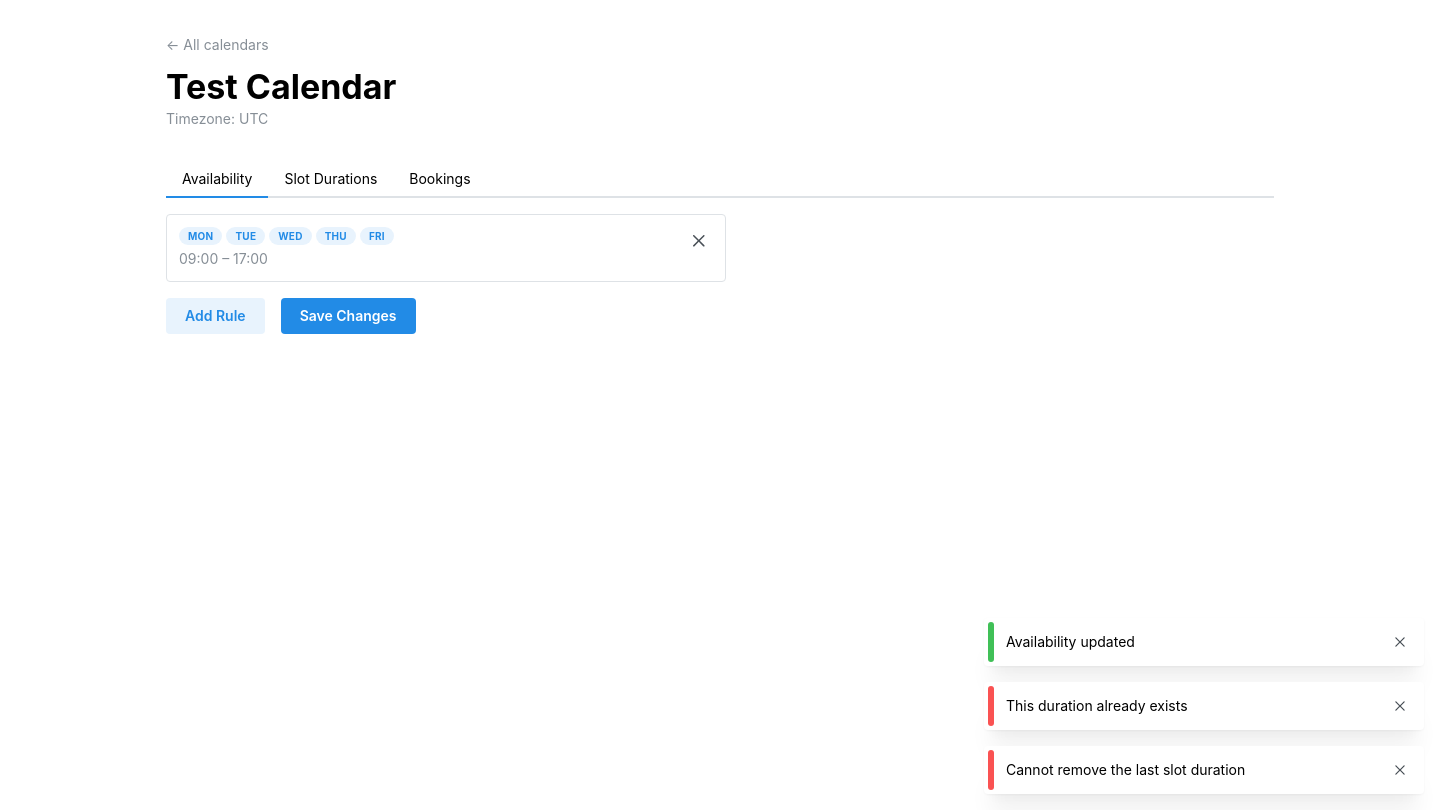
ManagePage › Bookings tab › lists bookings with guest name and status
Expected: the heading "Test Calendar" is shown, top-left (166, 66), bottom-right (396, 107)
Click the tab "Bookings". click: (440,180)
box: top-left (393, 162), bottom-right (487, 198)
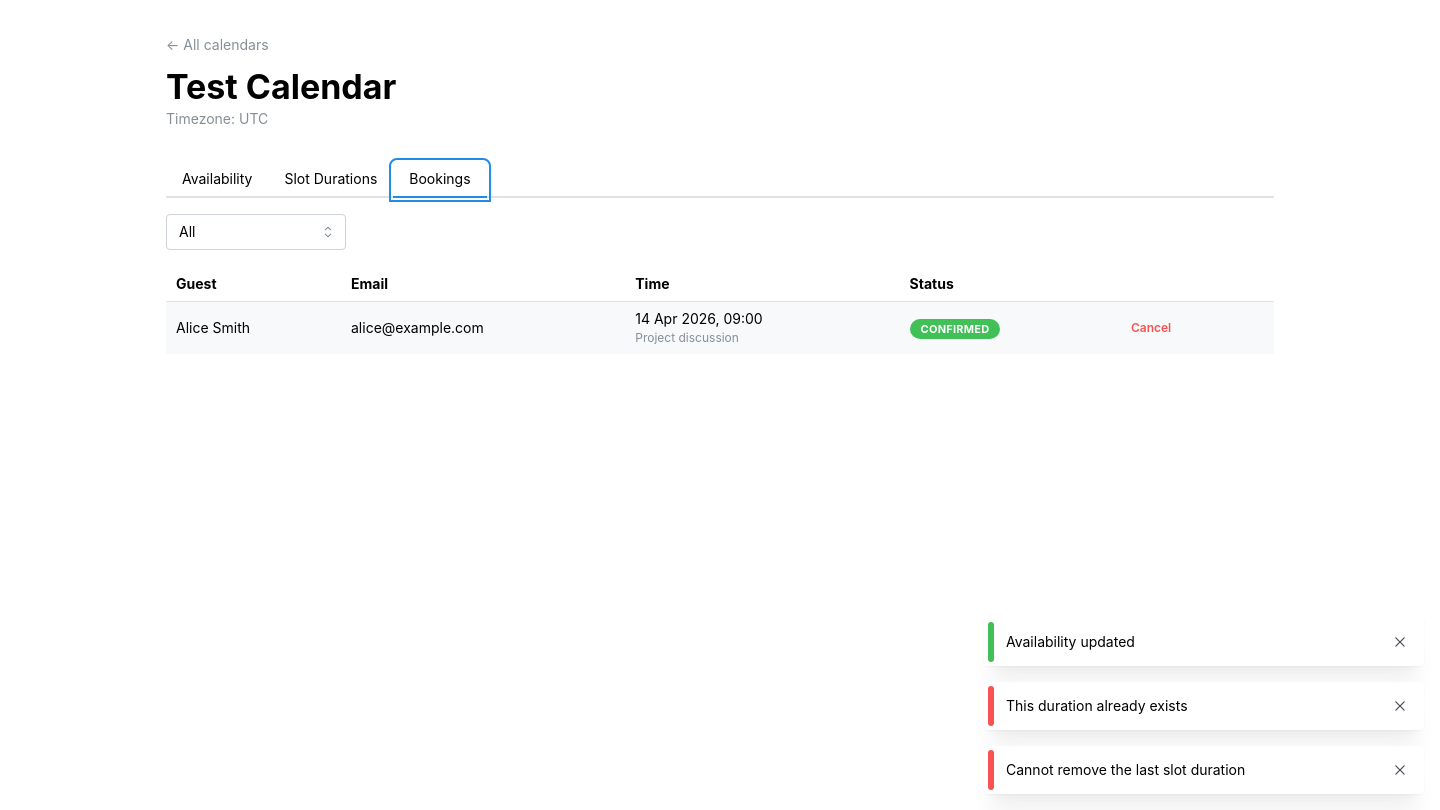
Expected: the text "Alice Smith" is shown, top-left (166, 302), bottom-right (341, 354)
Expected: the text "alice@example.com" is shown, top-left (341, 302), bottom-right (625, 354)
Expected: the text "confirmed" is shown, top-left (921, 320), bottom-right (990, 338)
